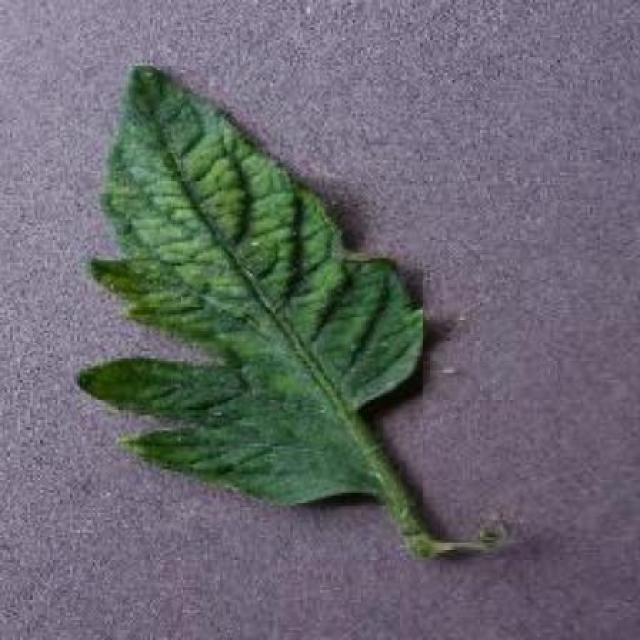Mosaic Virus: (74, 66, 423, 505)
